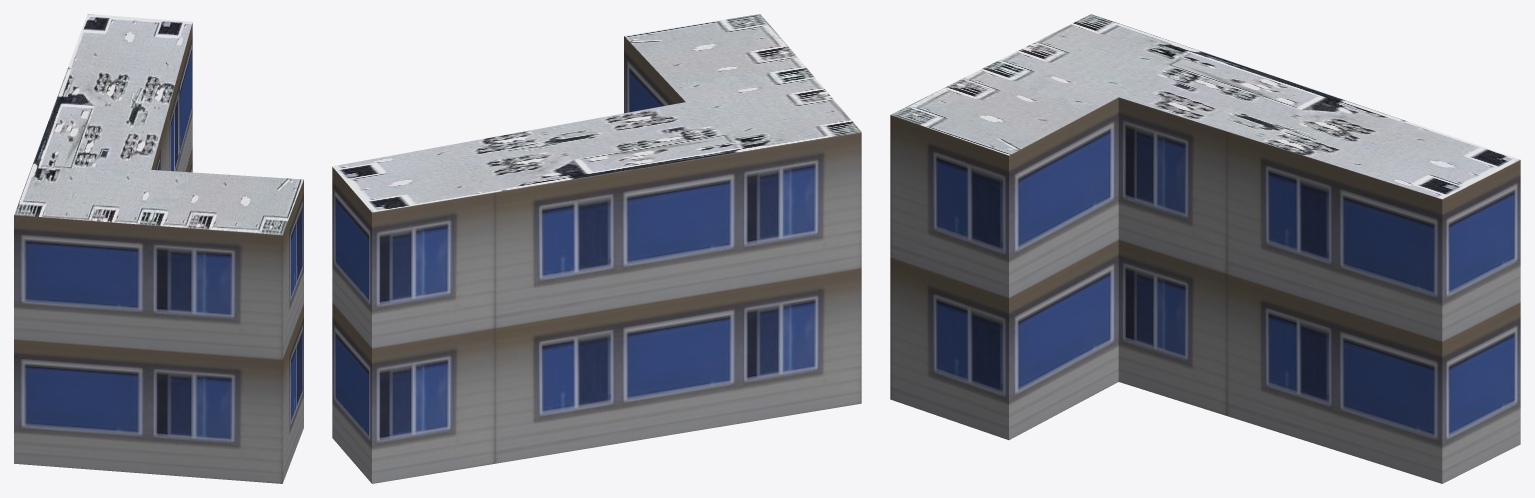
The model's file is ResTex__4681.fbx.
3 views of the same model, side by side, from view 1: azimuth 30°, elevation 25°; view 2: azimuth 150°, elevation 25°; view 3: azimuth 270°, elevation 25° (orthographic). The views are drawn at different scales.
Parts seen in each view (by area): view 1: CityEngineMaterial_23_m, CityEngineMaterial_4_m; view 2: CityEngineMaterial_23_m, CityEngineMaterial_4_m; view 3: CityEngineMaterial_23_m, CityEngineMaterial_4_m.
Part boxes in pixels (x1,y1,x2,y2): CityEngineMaterial_23_m: (14,23,303,483); CityEngineMaterial_4_m: (14,14,303,235); CityEngineMaterial_23_m: (332,36,861,483); CityEngineMaterial_4_m: (332,14,861,212); CityEngineMaterial_23_m: (890,97,1520,483); CityEngineMaterial_4_m: (890,14,1520,199).
Size of the model in its own units: 8.38 by 6 by 12.04.
Materials: 2 (2 with a texture image).
